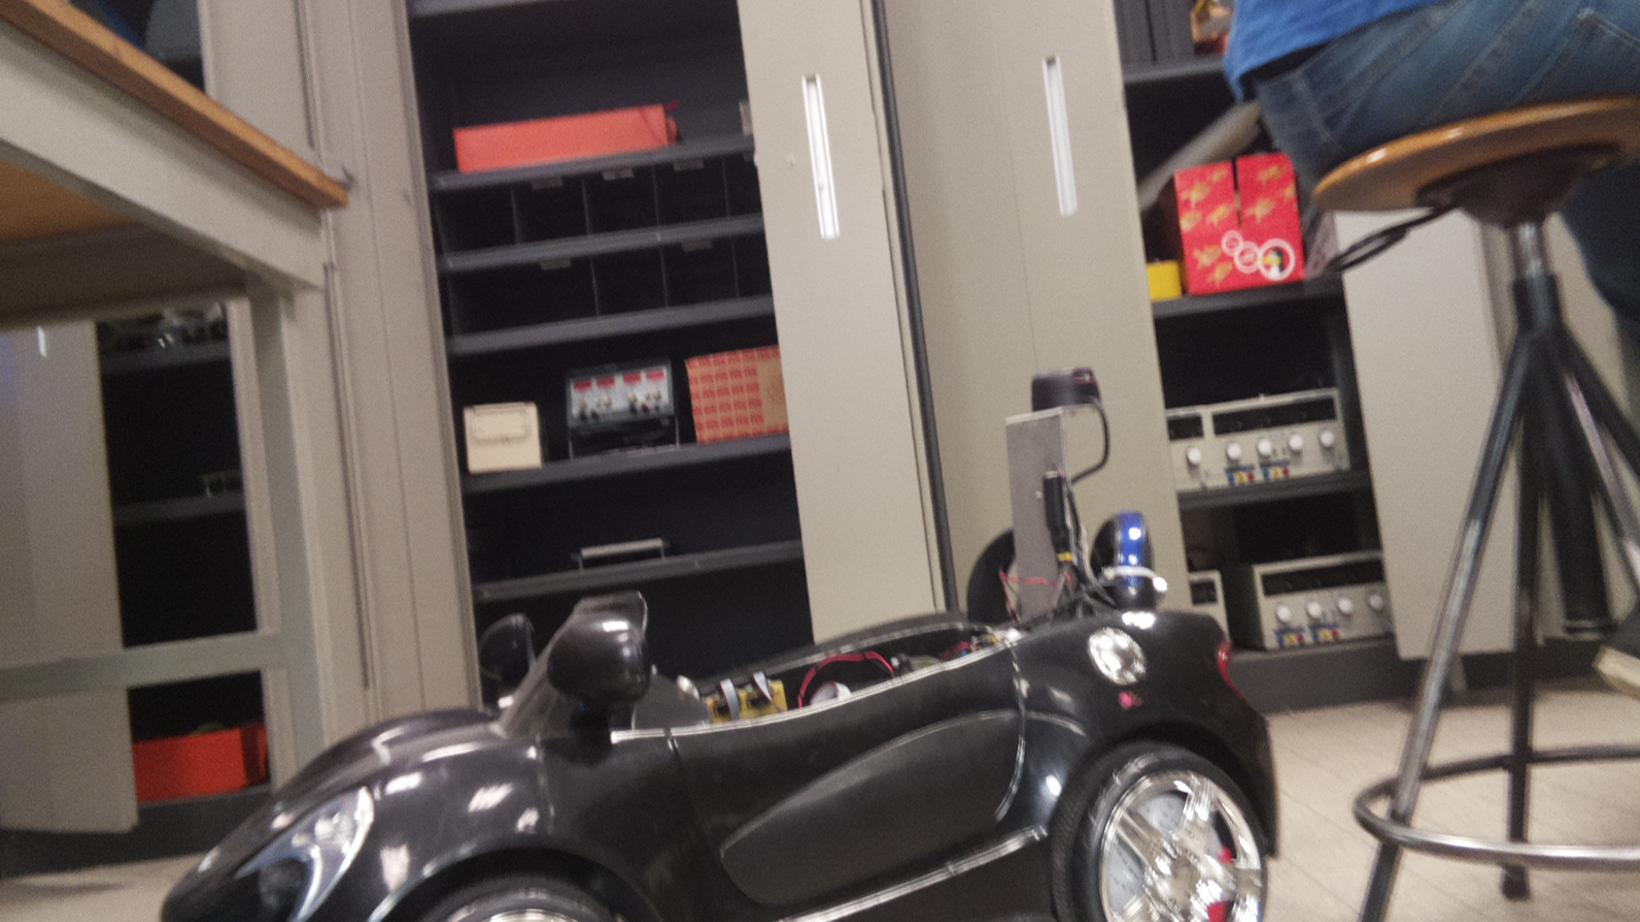big: (160, 366, 1287, 922)
